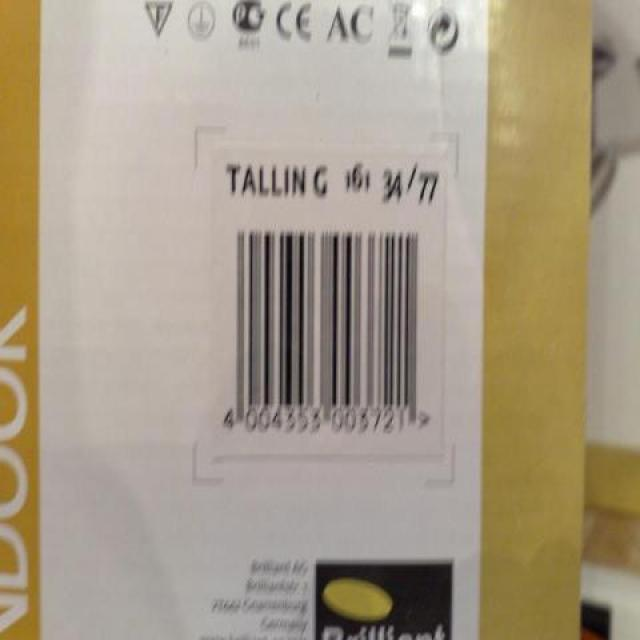Barcode: (197, 128, 456, 483)
